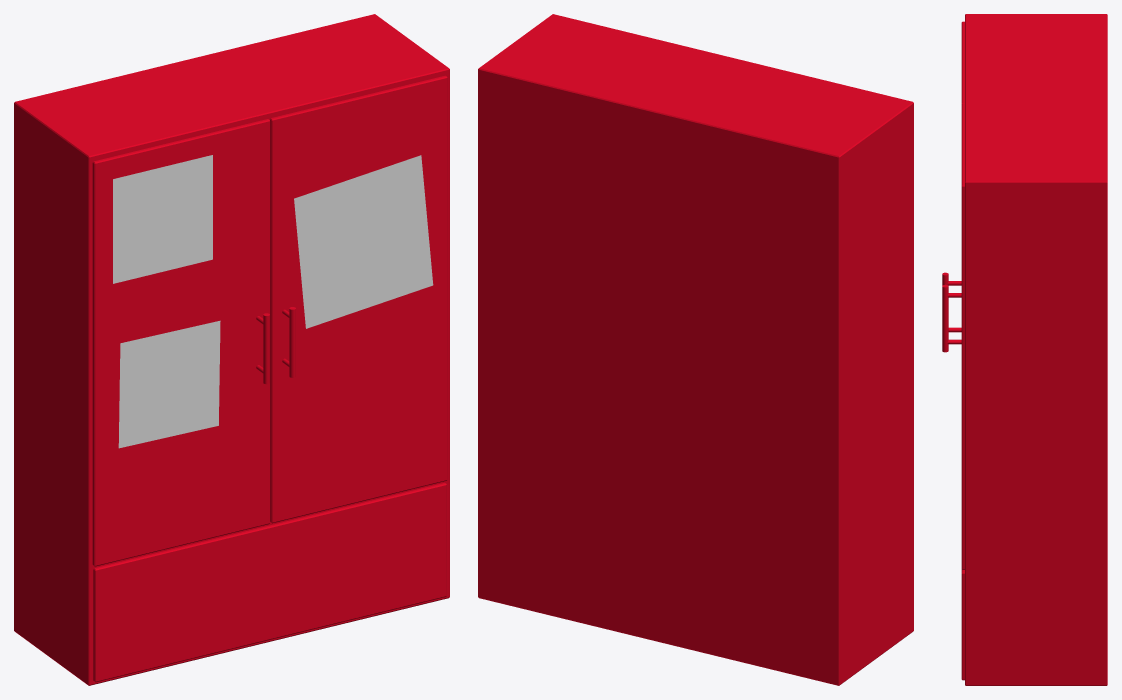
The model's file is AnimeCabinet.fbx.
3 renders of one model, left to right at view 1: azimuth 30°, elevation 25°; view 2: azimuth 150°, elevation 25°; view 3: azimuth 270°, elevation 25°, orthographic. The views are drawn at different scales.
Visible parts, largest first — view 1: Cube, Cube.001, Cube.002, Plane.002, Plane.001, Plane, handle; view 2: Cube.001; view 3: Cube.001, Cube, handle, Cube.002.
Boxes of the visible parts, box(x1,y1,x2,y2) form: Cube: box(92, 75, 447, 566); Cube.001: box(14, 14, 449, 685); Cube.002: box(93, 482, 446, 682); Plane.002: box(294, 155, 433, 328); Plane.001: box(118, 320, 220, 448); Plane: box(113, 155, 212, 283); handle: box(256, 307, 295, 384); Cube.001: box(478, 14, 913, 685); Cube.001: box(965, 14, 1107, 685); Cube: box(961, 21, 964, 569); handle: box(942, 272, 961, 352); Cube.002: box(961, 570, 964, 680).
Bounding box in the file's own units: 100 × 140 × 41.61.
